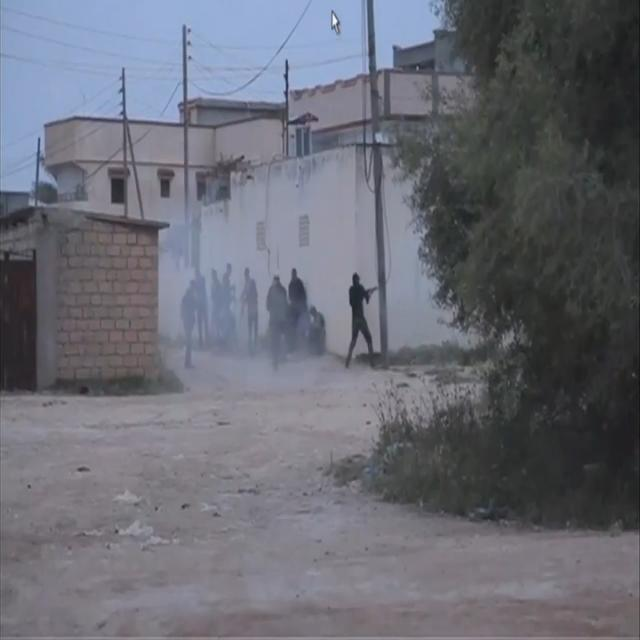long weapon: (345, 272, 390, 316)
